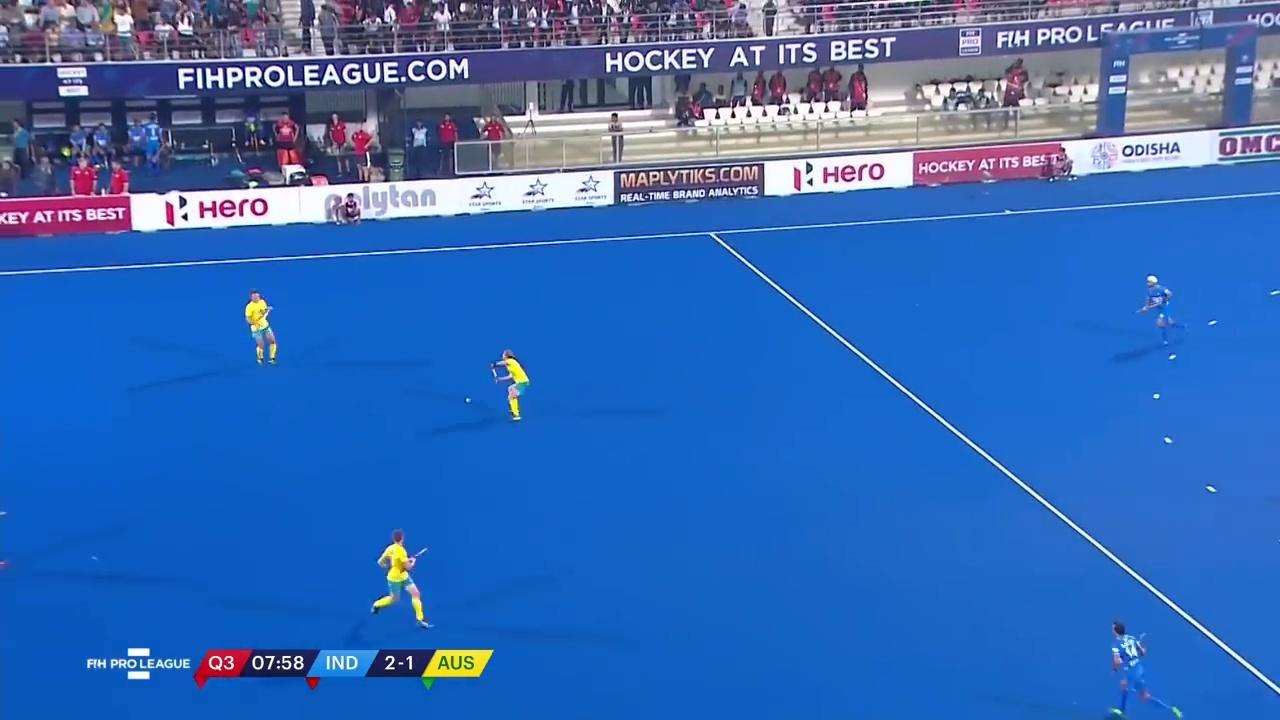ball: (465, 392, 474, 405)
